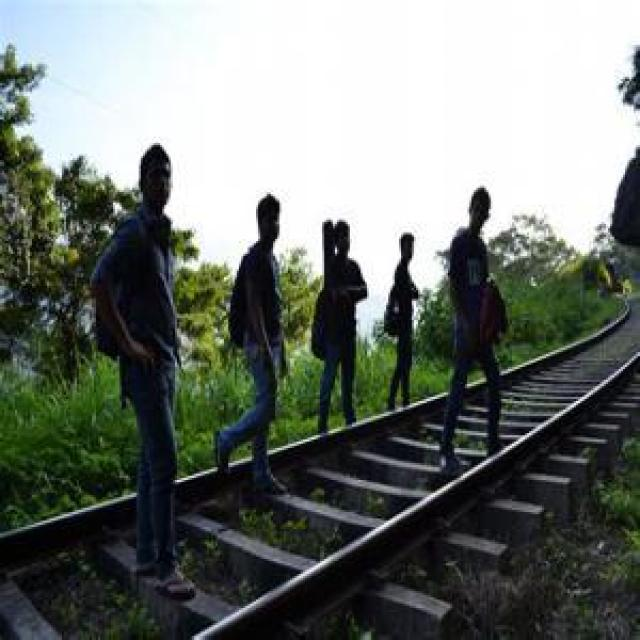danger: (95, 138, 202, 602), (218, 194, 288, 495), (436, 185, 507, 464), (312, 218, 369, 437), (385, 229, 417, 411)
